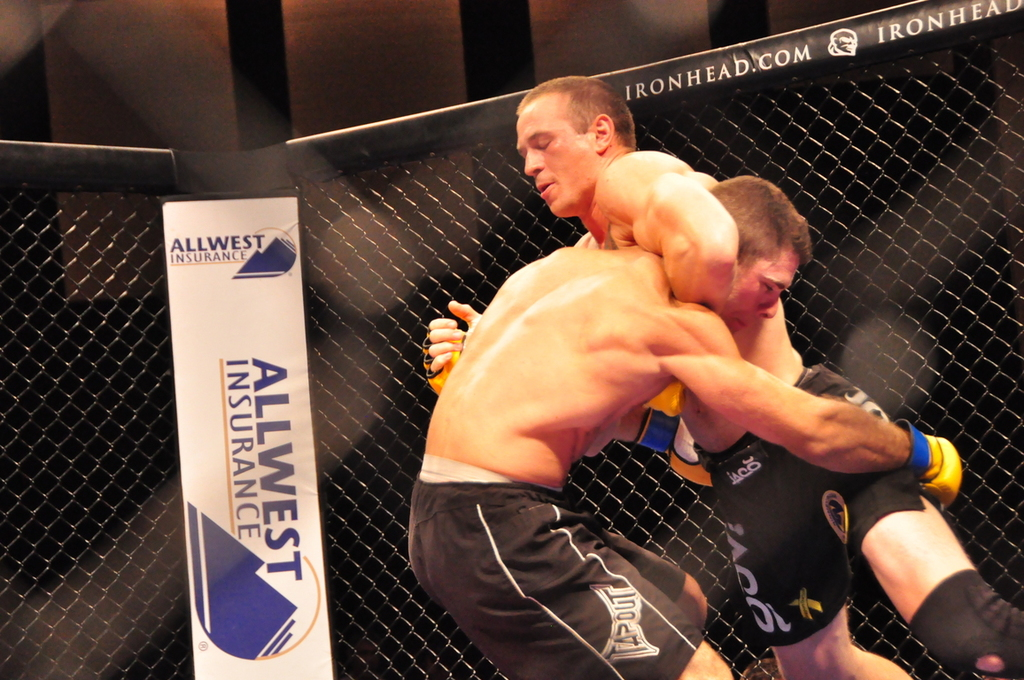face: (701, 218, 798, 343)
